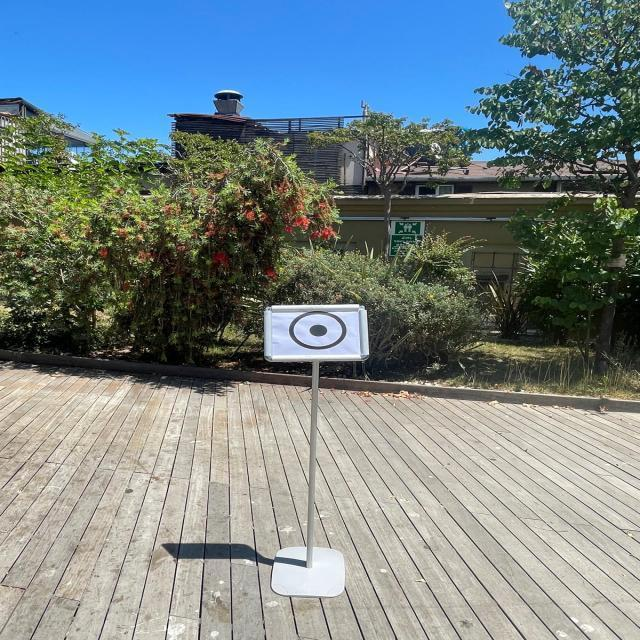Target: (253, 290, 384, 373)
inner: (302, 319, 334, 343)
